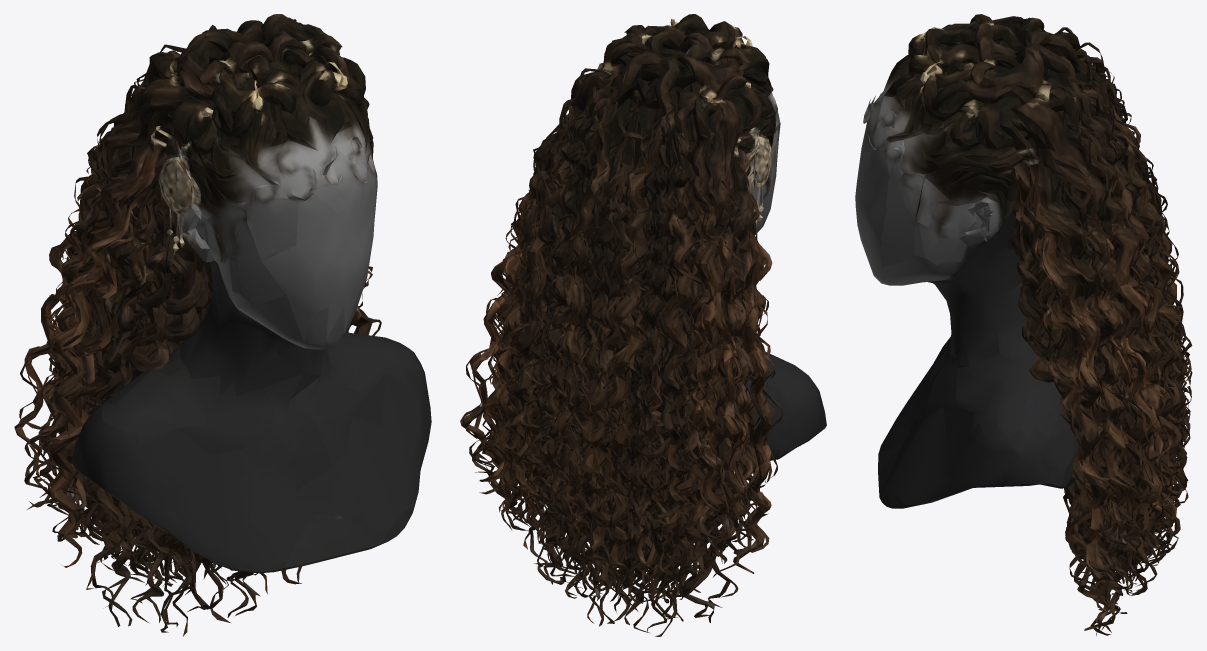
3 renders of one model, left to right at view 1: azimuth 30°, elevation 25°; view 2: azimuth 150°, elevation 25°; view 3: azimuth 270°, elevation 25°, orthographic. The views are drawn at different scales.
Parts seen in each view (by area): view 1: Mesh_0; view 2: Mesh_0; view 3: Mesh_0.
Part boxes in pixels (x1=…): Mesh_0: x1=14, y1=14, x2=431, y2=636; Mesh_0: x1=460, y1=14, x2=826, y2=636; Mesh_0: x1=855, y1=14, x2=1192, y2=635.
Size of the model in its own units: 1.05 by 1.9 by 0.9824.
Materials: 1 (1 with a texture image).
